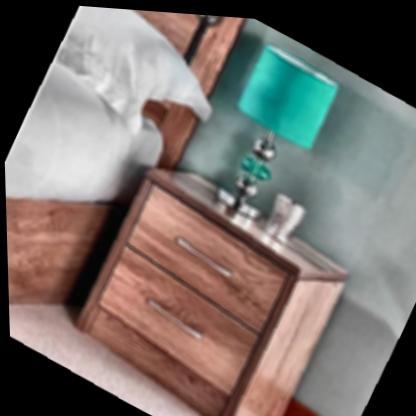Nightstand: (55, 137, 371, 416)
